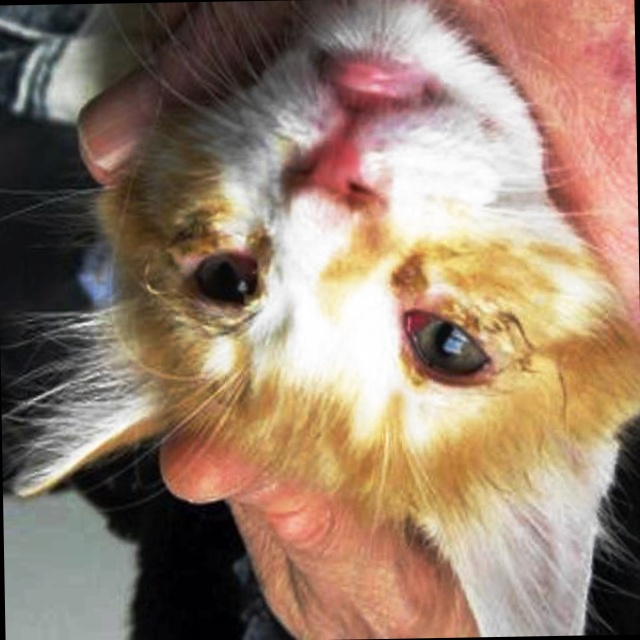eye_infection: (401, 293, 498, 385), (185, 244, 263, 313)
